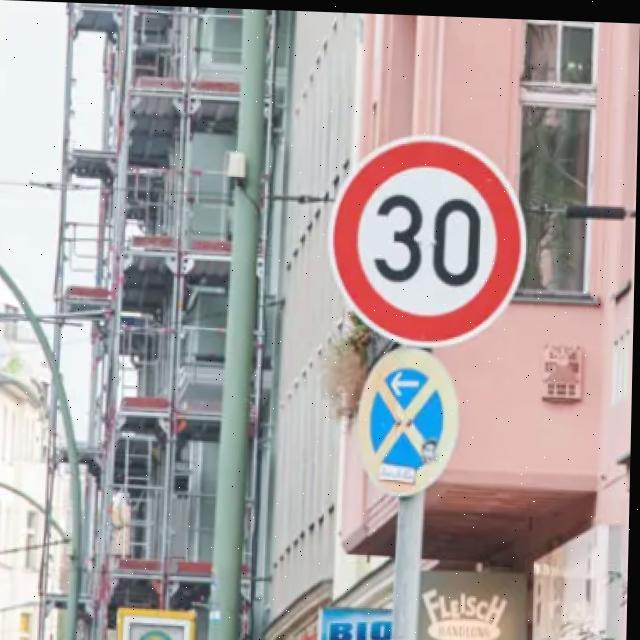Speed limit 30: (324, 125, 533, 349)
